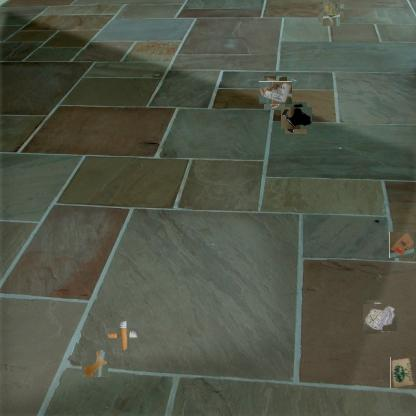dirty: (364, 302, 396, 332), (261, 79, 290, 107), (390, 356, 415, 388), (389, 233, 415, 258), (112, 323, 134, 345), (320, 2, 342, 24)
liquid: (81, 350, 109, 377), (283, 104, 309, 132)
